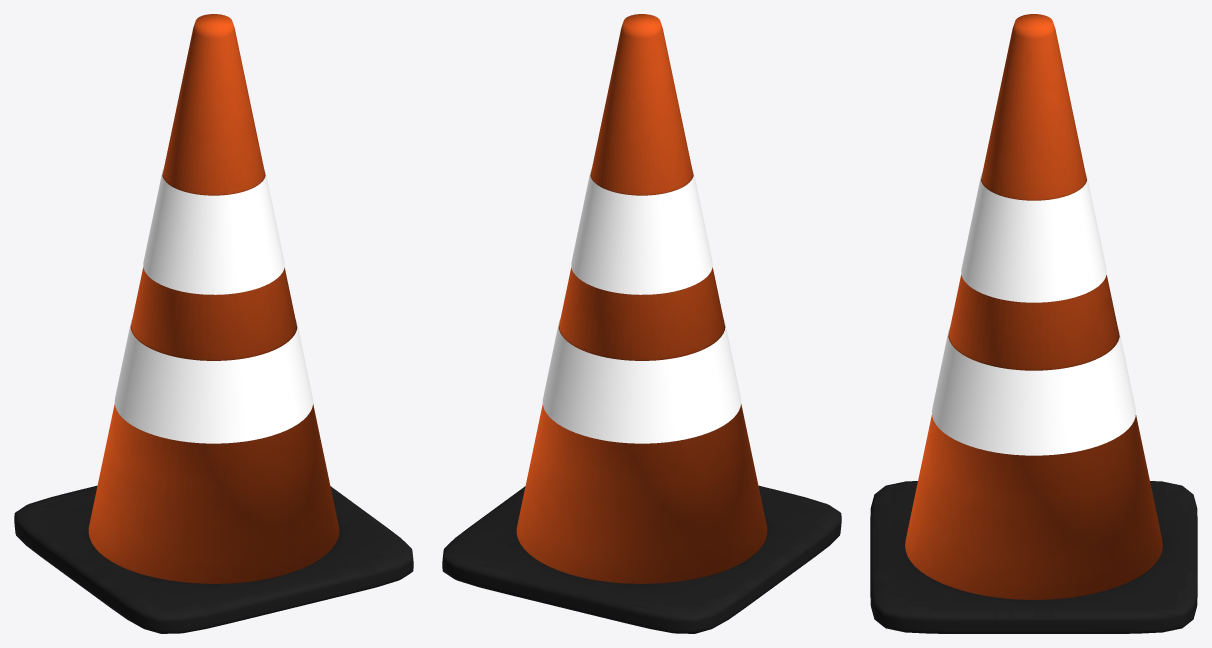
Rendered from tall.glb.
3 renders of one model, left to right at view 1: azimuth 30°, elevation 25°; view 2: azimuth 150°, elevation 25°; view 3: azimuth 270°, elevation 25°, orthographic. The views are drawn at different scales.
Parts seen in each view (by area): view 1: cone_plastic, reflective_band, cone_base; view 2: cone_plastic, reflective_band, cone_base; view 3: cone_plastic, reflective_band, cone_base.
Boxes of the visible parts, bbox=[...] form: cone_plastic: bbox=[88, 14, 339, 583]; reflective_band: bbox=[114, 168, 313, 443]; cone_base: bbox=[14, 485, 413, 633]; cone_plastic: bbox=[516, 14, 767, 583]; reflective_band: bbox=[542, 168, 741, 443]; cone_base: bbox=[442, 485, 841, 633]; cone_plastic: bbox=[905, 14, 1162, 599]; reflective_band: bbox=[932, 173, 1135, 455]; cone_base: bbox=[870, 481, 1197, 633].
Size of the model in its own units: 0.38 by 0.7 by 0.38.
Materials: 3 (2 with a texture image).
